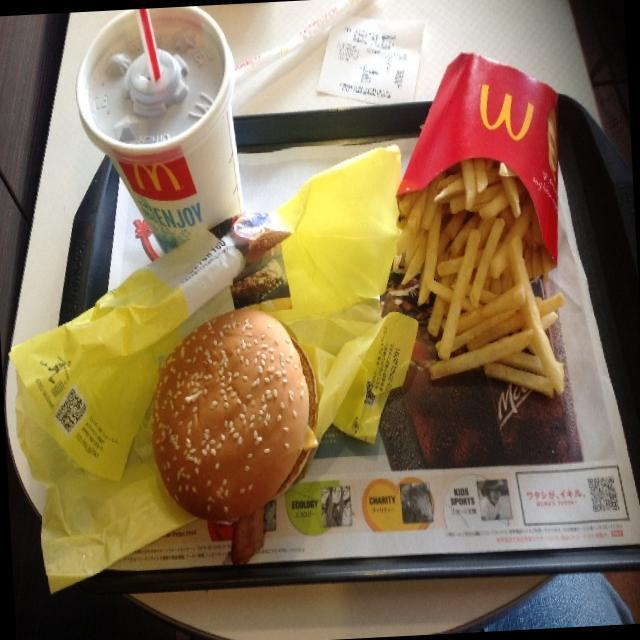French Fries: (392, 154, 568, 406)
Hamburger: (148, 306, 324, 532)
